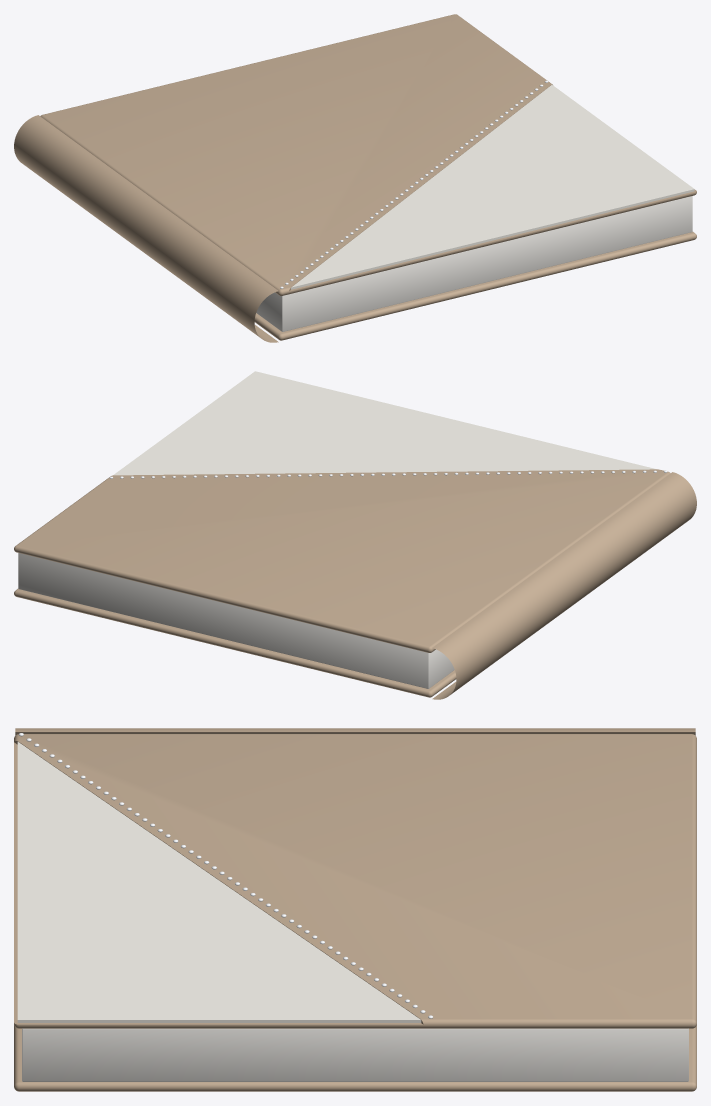
Rendered from oblique--square.glb.
3 views of the same model, one above another, from view 1: azimuth 30°, elevation 25°; view 2: azimuth 150°, elevation 25°; view 3: azimuth 270°, elevation 25° (orthographic). The views are drawn at different scales.
Parts seen in each view (by area): view 1: CoverFront, Band, Pages, Spine, CoverBack, Crystal; view 2: CoverFront, Band, Pages, Spine, CoverBack, Crystal; view 3: CoverFront, Band, Pages, CoverBack, Spine, Crystal.
Part boxes in pixels (left/top/right/bottom): CoverFront: left=40, top=14, right=696, bottom=295; Band: left=291, top=85, right=694, bottom=289; Pages: left=256, top=196, right=692, bottom=331; Spine: left=14, top=115, right=278, bottom=342; CoverBack: left=254, top=232, right=696, bottom=340; Crystal: left=280, top=80, right=548, bottom=288; CoverFront: left=14, top=469, right=670, bottom=652; Band: left=113, top=371, right=656, bottom=475; Pages: left=18, top=553, right=454, bottom=688; Spine: left=432, top=472, right=696, bottom=699; CoverBack: left=14, top=589, right=456, bottom=697; Crystal: left=109, top=470, right=667, bottom=478; CoverFront: left=14, top=734, right=696, bottom=1028; Band: left=17, top=742, right=421, bottom=1022; Pages: left=22, top=1028, right=688, bottom=1081; CoverBack: left=14, top=1025, right=696, bottom=1091; Spine: left=15, top=728, right=695, bottom=735; Crystal: left=18, top=733, right=433, bottom=1018.
Bounding box in the file's own units: 0.3179 × 0.0361 × 0.3.
